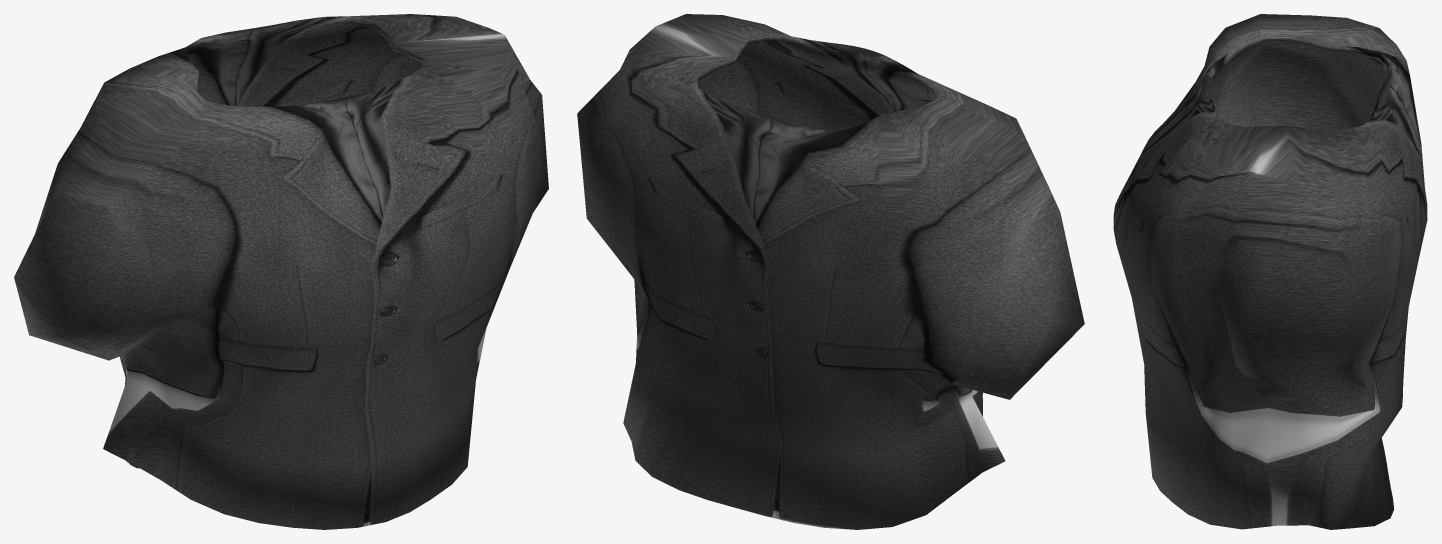
3 views of the same model, side by side, from view 1: azimuth 30°, elevation 25°; view 2: azimuth 150°, elevation 25°; view 3: azimuth 270°, elevation 25° (orthographic). The views are drawn at different scales.
Visible parts, largest first — view 1: garment; view 2: garment; view 3: garment.
Part boxes in pixels (<box>): garment: <box>14,14,548,529</box>; garment: <box>577,14,1084,529</box>; garment: <box>1113,14,1427,529</box>.
Size of the model in its own units: 0.5722 by 0.4623 by 0.3333.
1 material, 1 textured.
